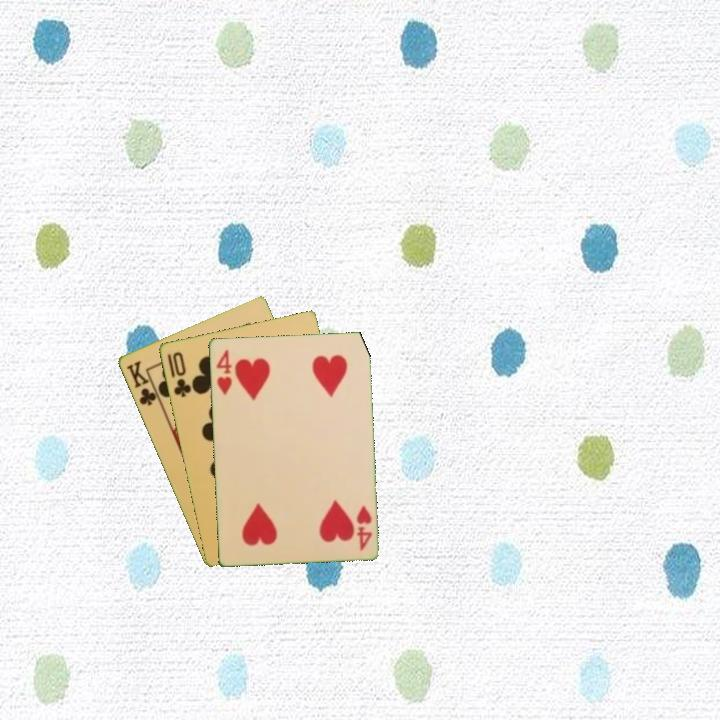10c: (163, 348, 194, 400)
4h: (353, 502, 375, 554), (213, 346, 234, 397)
Kc: (122, 357, 162, 409)
